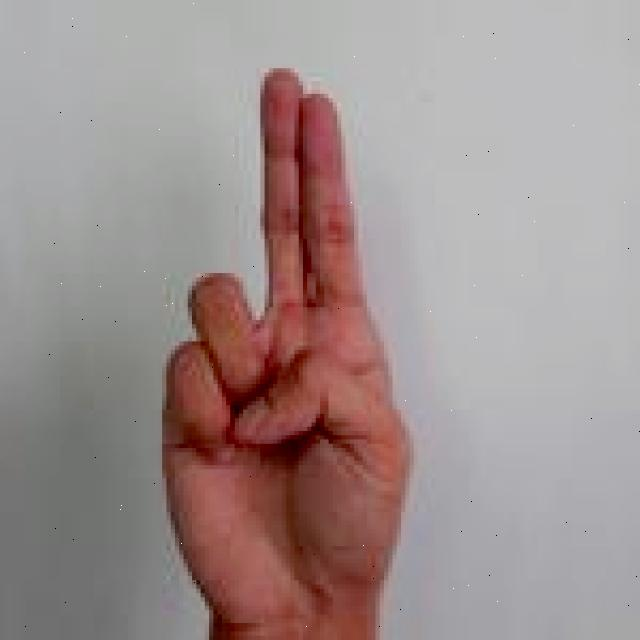U: (159, 61, 420, 640)
